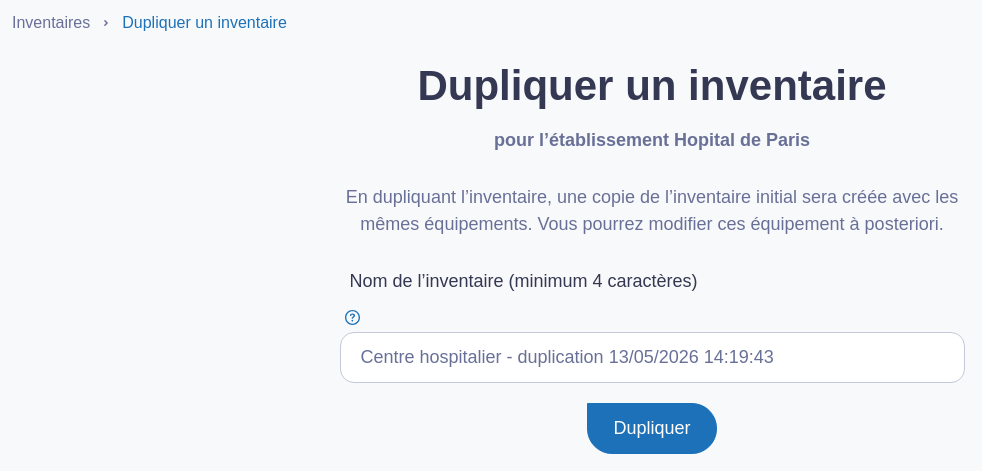
page créer une simulation › en tant qu’utilisateur › quand j’écris un nom d’inventaire inférieur à 4 caractères alors je ne peux pas créer la duplication
This screenshot has width=982, height=471.
Replace the text in the field labelled "Nom de l’inventaire (minimum 4 caractères)" with "???". click: (652, 358)
box: x1=340 y1=332 x2=964 y2=383
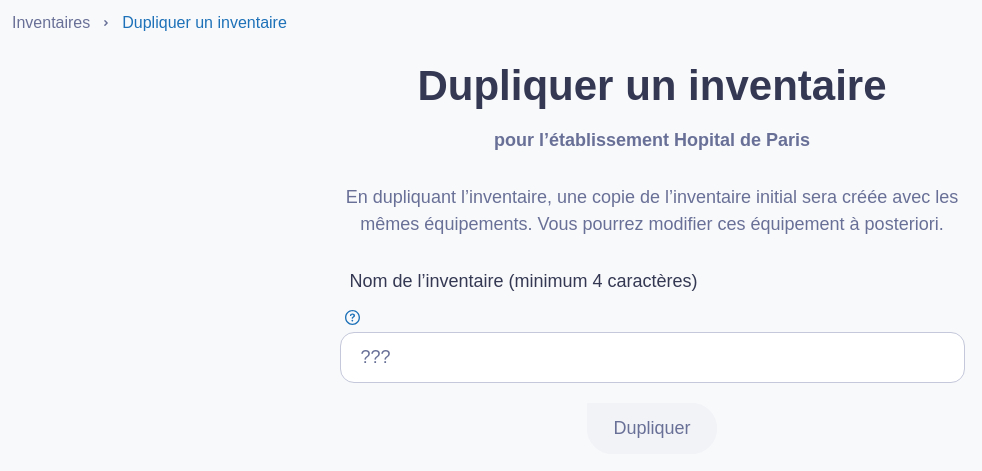
Now the button "Dupliquer" is disabled, box x1=588 y1=403 x2=716 y2=454
